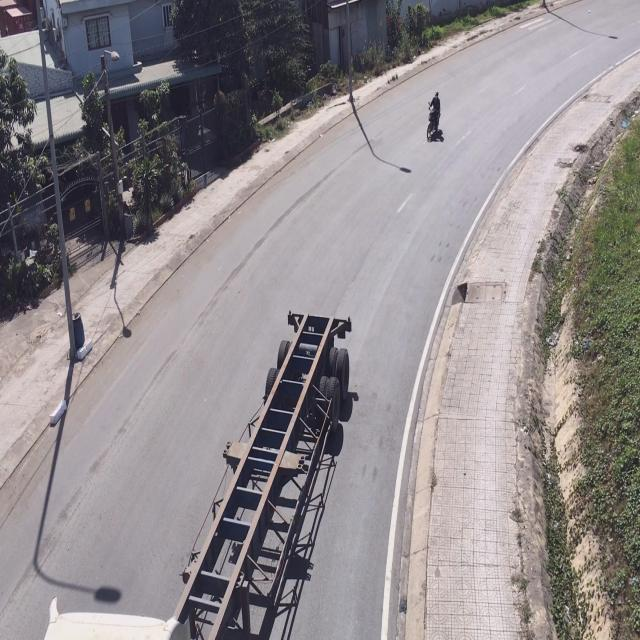motorbike: (424, 89, 444, 146)
truck: (46, 302, 347, 640)
